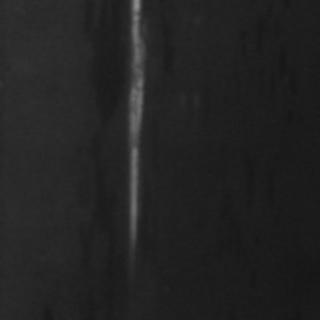scratches: (118, 0, 150, 252)
